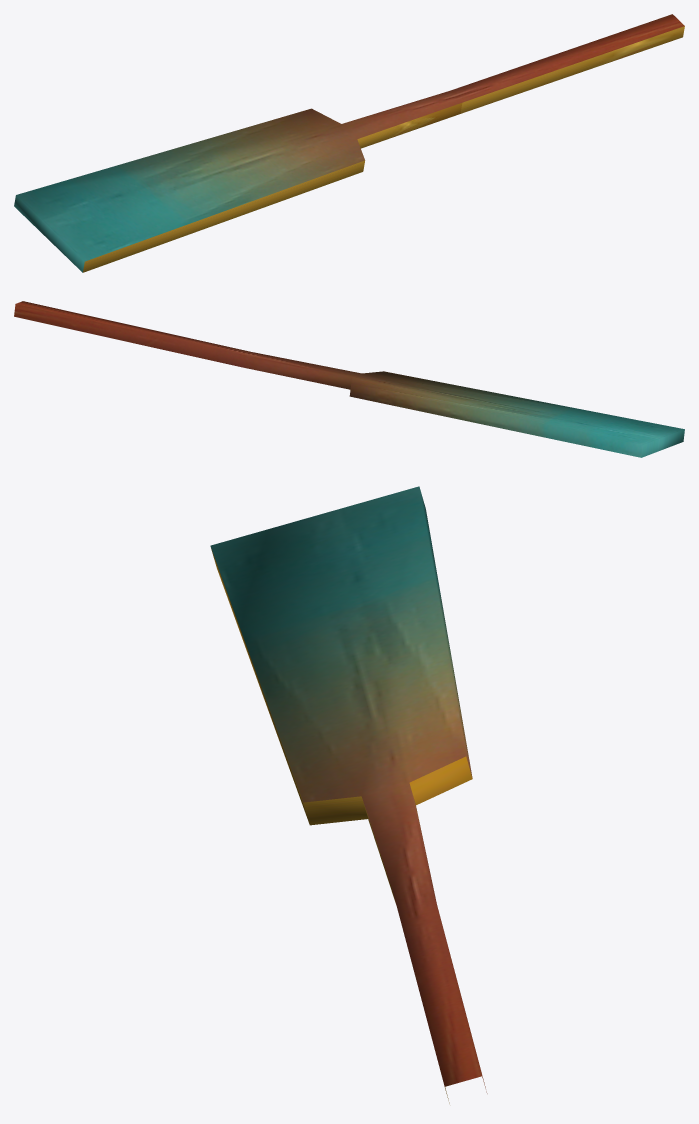
File: jiang1.FBX
The picture shows the model from 3 angles, top to bottom: view 1: azimuth 30°, elevation 25°; view 2: azimuth 150°, elevation 25°; view 3: azimuth 270°, elevation 25°; orthographic projection. The views are drawn at different scales.
Visible parts, largest first — view 1: Object033; view 2: Object033; view 3: Object033.
Boxes of the visible parts, x1,y1,x2,y2 form: Object033: [14, 14, 684, 272]; Object033: [14, 301, 684, 457]; Object033: [210, 486, 487, 1103].
Size of the model in its own units: 14410 by 889 by 2830.
